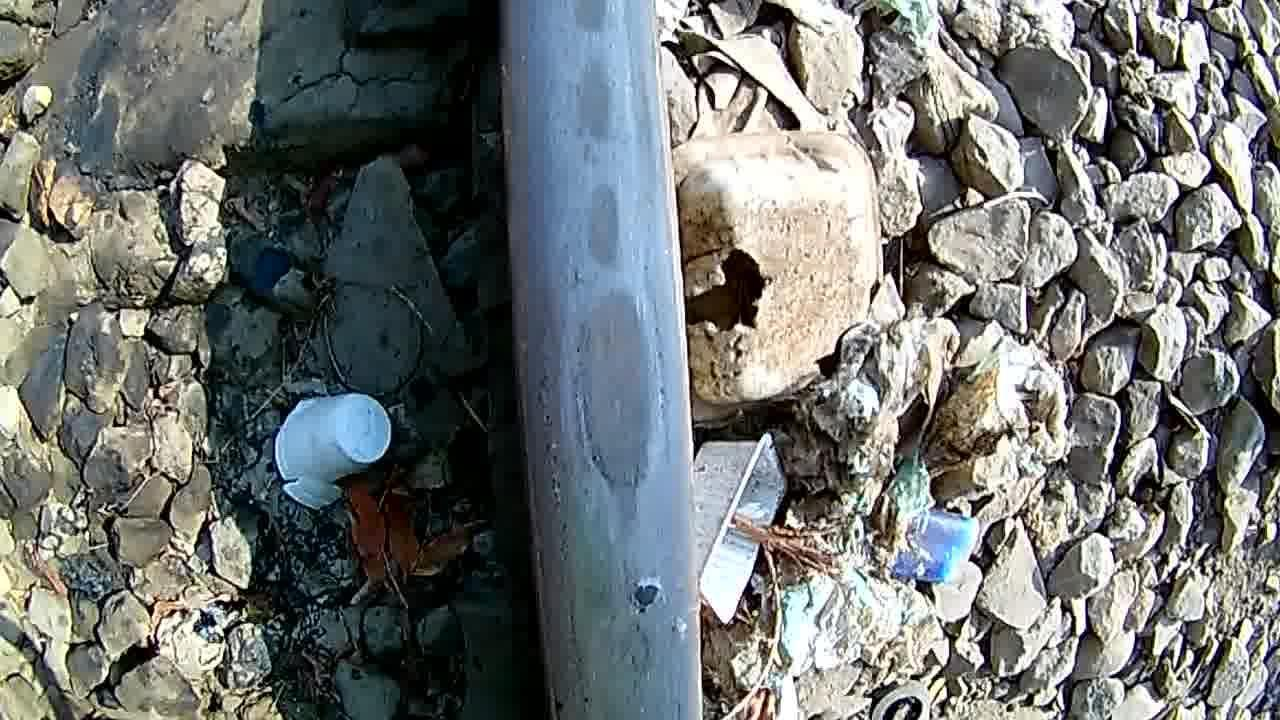crack: (502, 0, 690, 720)
